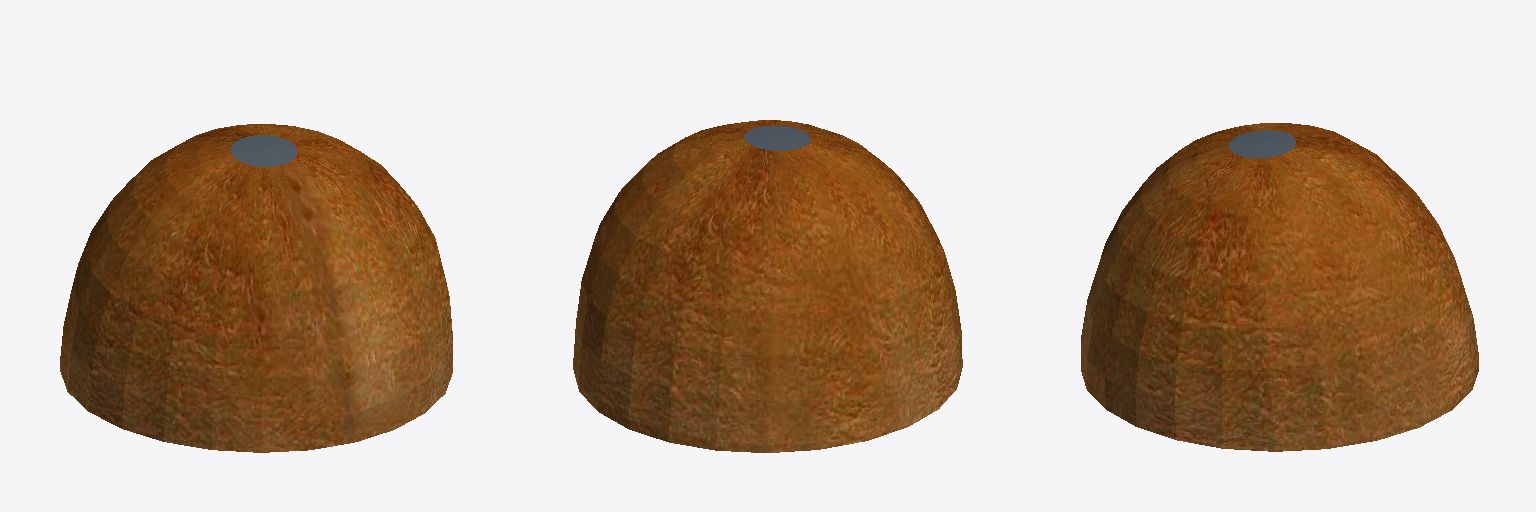
3 views of the same model, side by side, from view 1: azimuth 30°, elevation 25°; view 2: azimuth 150°, elevation 25°; view 3: azimuth 270°, elevation 25° (orthographic).
Visible parts, largest first — view 1: Kiwi02, Kiwi_Bottom02; view 2: Kiwi02, Kiwi_Bottom02; view 3: Kiwi02, Kiwi_Bottom02.
Boxes of the visible parts, x1,y1,x2,y2 form: Kiwi02: [60, 124, 452, 452]; Kiwi_Bottom02: [231, 135, 297, 166]; Kiwi02: [573, 120, 962, 452]; Kiwi_Bottom02: [744, 126, 810, 150]; Kiwi02: [1081, 123, 1478, 451]; Kiwi_Bottom02: [1229, 130, 1295, 157].
Bounding box in the file's own units: 52.42 × 33.63 × 53.59.
3 materials, 1 textured.